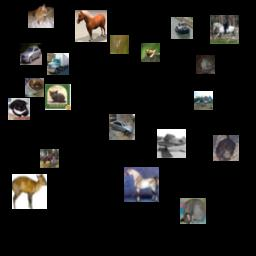airplane: (157, 129, 186, 158), (194, 91, 213, 110)
automobile: (109, 114, 135, 140), (20, 43, 42, 65)
bird: (110, 35, 129, 54), (141, 43, 160, 62)
cat: (180, 198, 206, 224), (45, 84, 71, 110), (8, 98, 30, 120), (196, 55, 215, 74)
deer: (12, 174, 47, 209)
dog: (28, 2, 54, 28), (25, 78, 44, 97)
frog: (213, 135, 239, 161)
ship: (171, 17, 193, 39)
truck: (47, 53, 69, 75)
